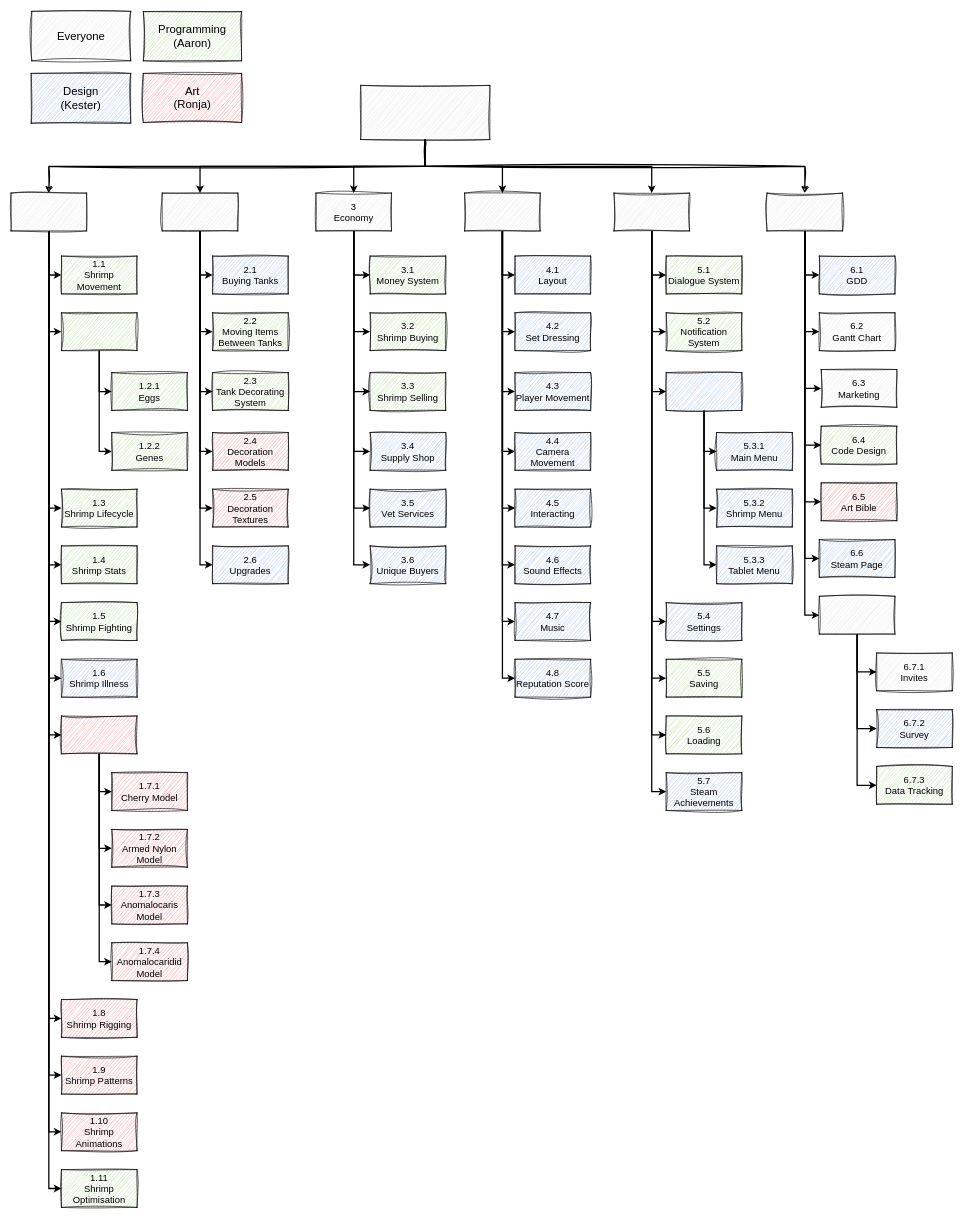
The diagram is 963 pixels wide and 1218 high, and some of its shapes have lost their labels. Here are the shapes that lost their labels. From the top down, the box of each, then its label:
(360, 85, 490, 140): Shrimp Game
(10, 192, 87, 231): 1 Shrimp
(162, 192, 238, 231): 2 Tanks
(464, 192, 540, 231): 4 Shop & Player
(613, 192, 690, 231): 5 UI & UX
(766, 192, 843, 231): 6 Admin
(61, 312, 137, 351): 1.2 Shrimp Breeding
(666, 372, 742, 410): 5.3 Menus
(819, 596, 895, 634): 6.7 Beta Test Preparation
(61, 715, 137, 754): 1.7 Shrimp Models
